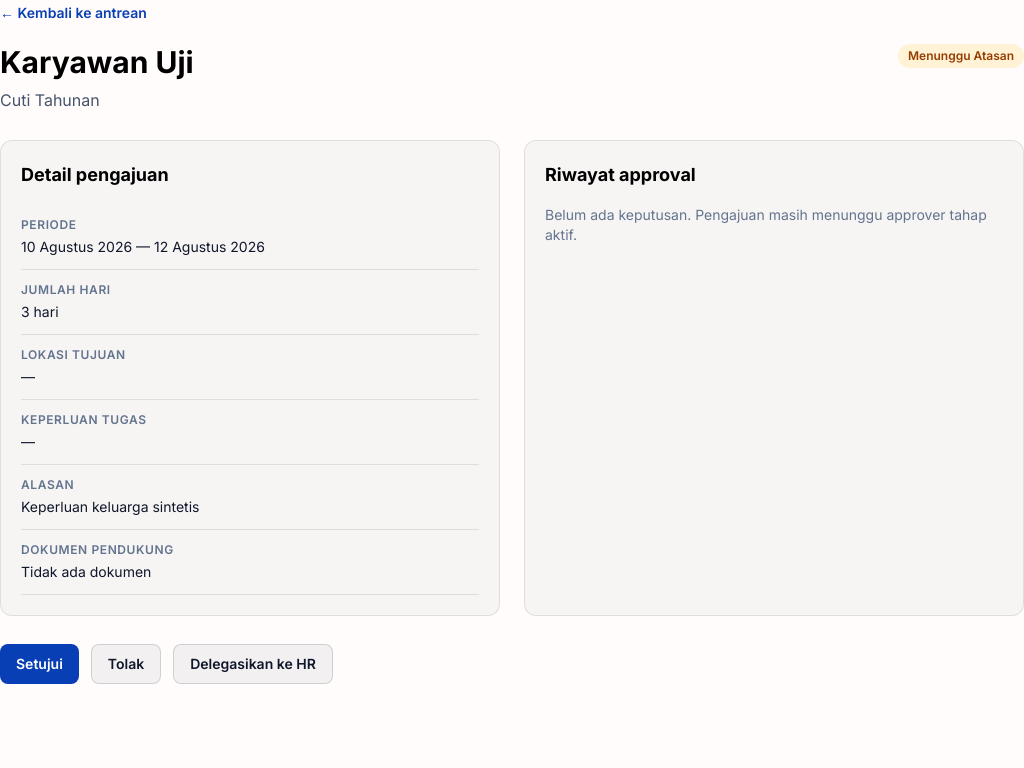
Test: ApprovalDetailPage › requires a note before delegating
This screenshot has width=1024, height=768.
Step 1. Click the button "Delegasikan ke HR" → (253, 664), box 173,644 -> 333,684
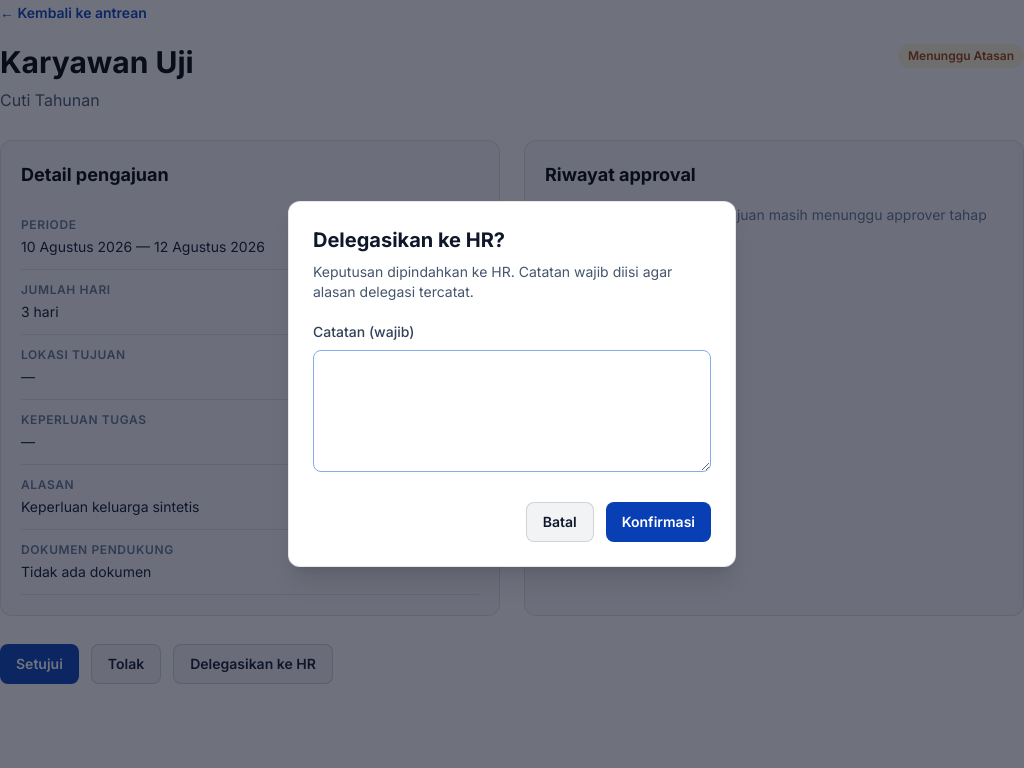
Step 2. Click the button "Konfirmasi" → (658, 522), box 606,502 -> 711,542
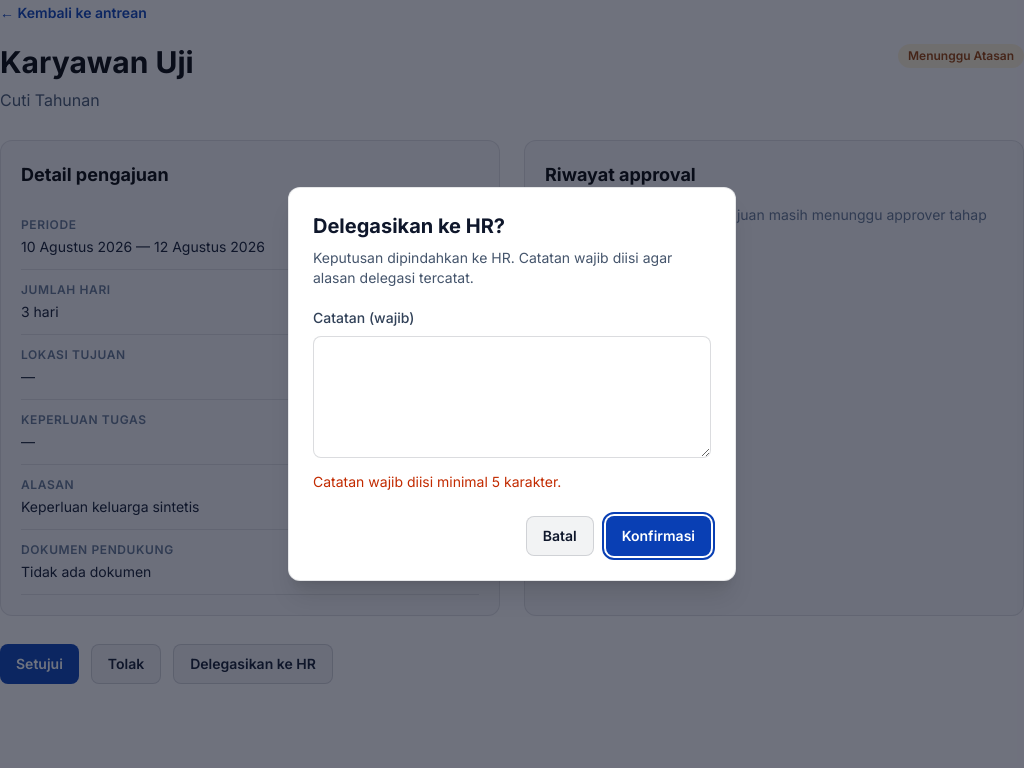
Expected: the text "Catatan wajib diisi minimal 5 karakter." is shown, 313,473 -> 561,490
